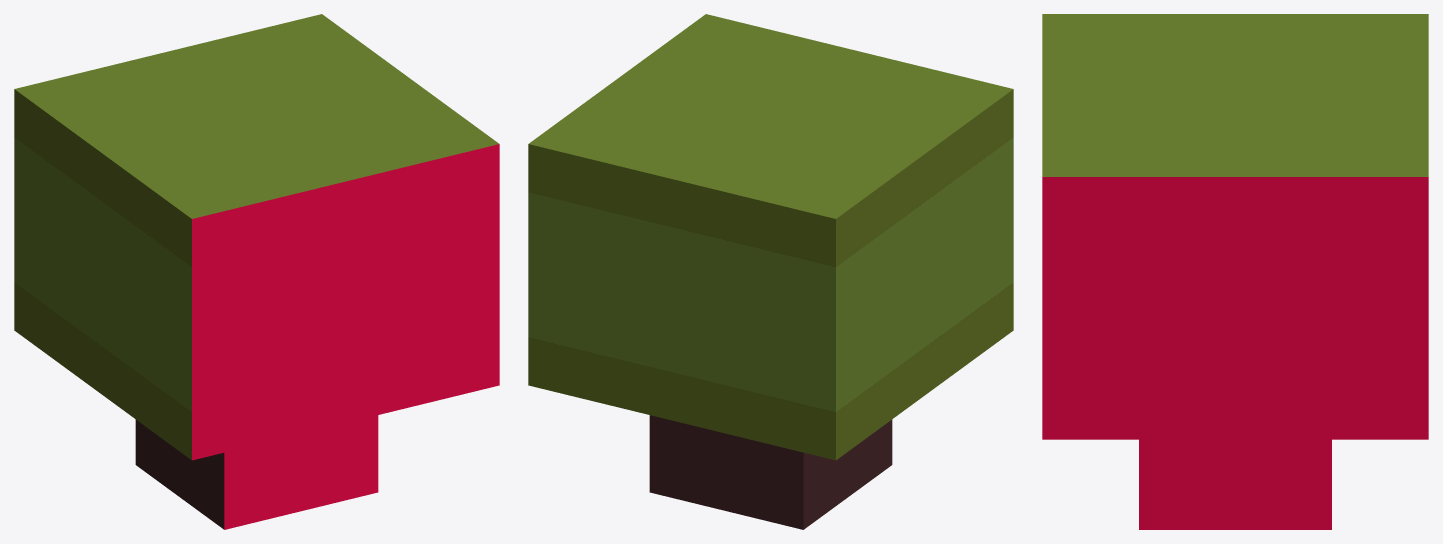
File: tree_2.gltf
3 renders of one model, left to right at view 1: azimuth 30°, elevation 25°; view 2: azimuth 150°, elevation 25°; view 3: azimuth 270°, elevation 25°, orthographic. The views are drawn at different scales.
Visible parts, largest first — view 1: mesh (×2); view 2: mesh (×2); view 3: mesh (×2).
Boxes of the visible parts, bbox=[...] form: mesh (×2): bbox=[14, 14, 499, 529]; mesh (×2): bbox=[528, 14, 1013, 529]; mesh (×2): bbox=[1042, 14, 1428, 529].
Size of the model in its own units: 1 by 1.12 by 1.
1 material, 1 textured.
